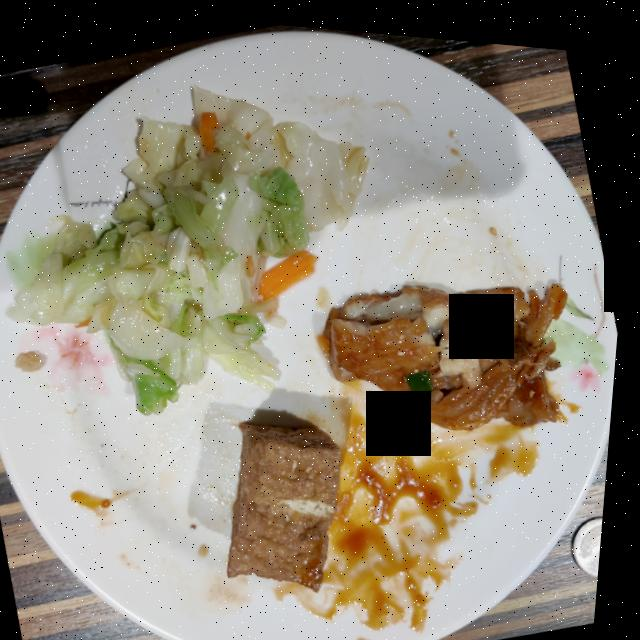Kabayaki sea bream fillet: (330, 273, 570, 421)
cabbage: (11, 82, 370, 411)
coin: (580, 505, 610, 565)
egg tofu: (235, 417, 347, 584)
